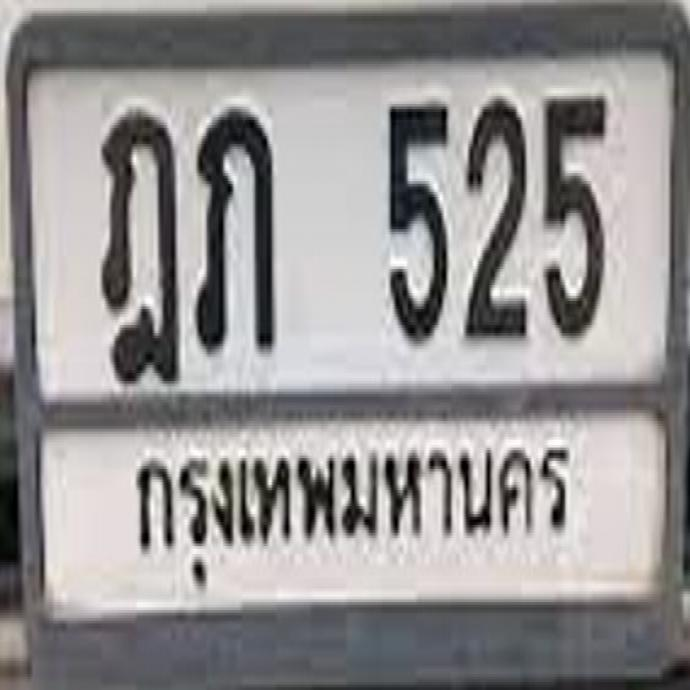2: (464, 95, 527, 337)
5: (541, 93, 605, 335), (385, 100, 448, 341)
A14: (99, 106, 178, 384)
A32: (195, 105, 274, 349)
BKK: (120, 423, 582, 592)
